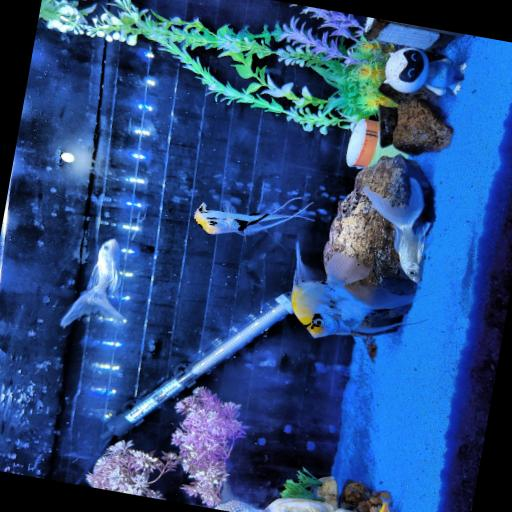Fish: (291, 244, 416, 337), (365, 178, 431, 282), (61, 239, 123, 327), (194, 198, 311, 234), (380, 497, 391, 511)
